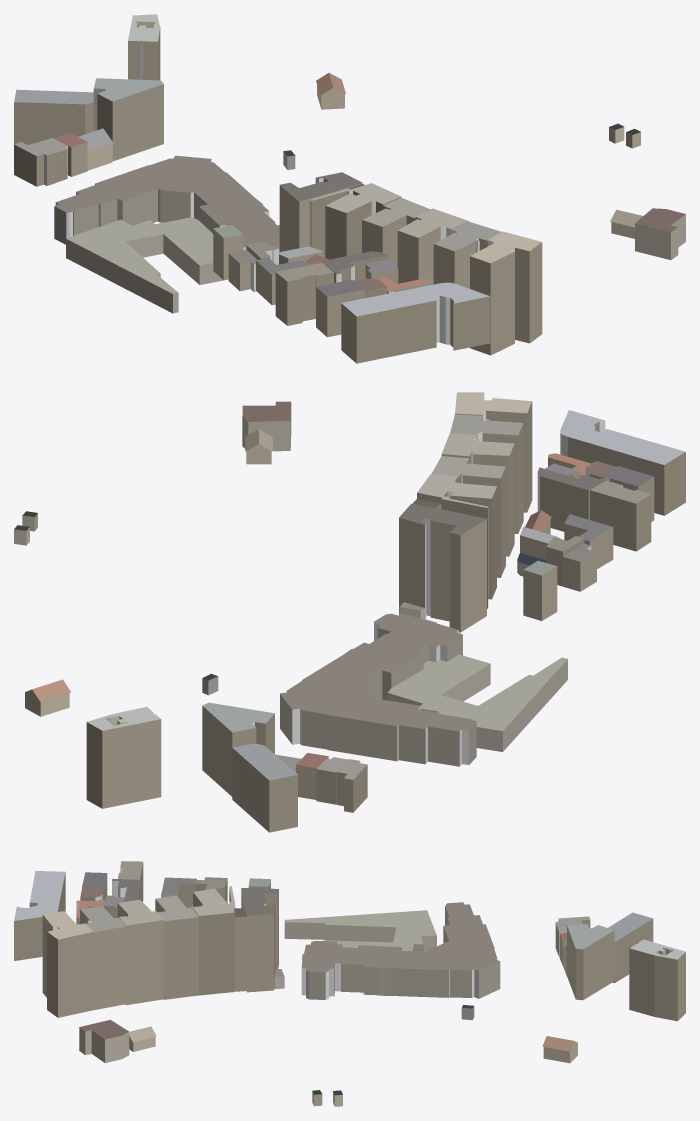
3 renders of one model, top to bottom at view 1: azimuth 30°, elevation 25°; view 2: azimuth 150°, elevation 25°; view 3: azimuth 270°, elevation 25°, orthographic. The views are drawn at different scales.
Visible parts, largest first — view 1: tuile; view 2: tuile; view 3: tuile.
Boxes of the visible parts, bbox=[...] form: tuile: bbox=[14, 14, 685, 363]; tuile: bbox=[14, 392, 685, 832]; tuile: bbox=[14, 861, 685, 1106].
Size of the model in its own units: 200 by 41.98 by 270.
